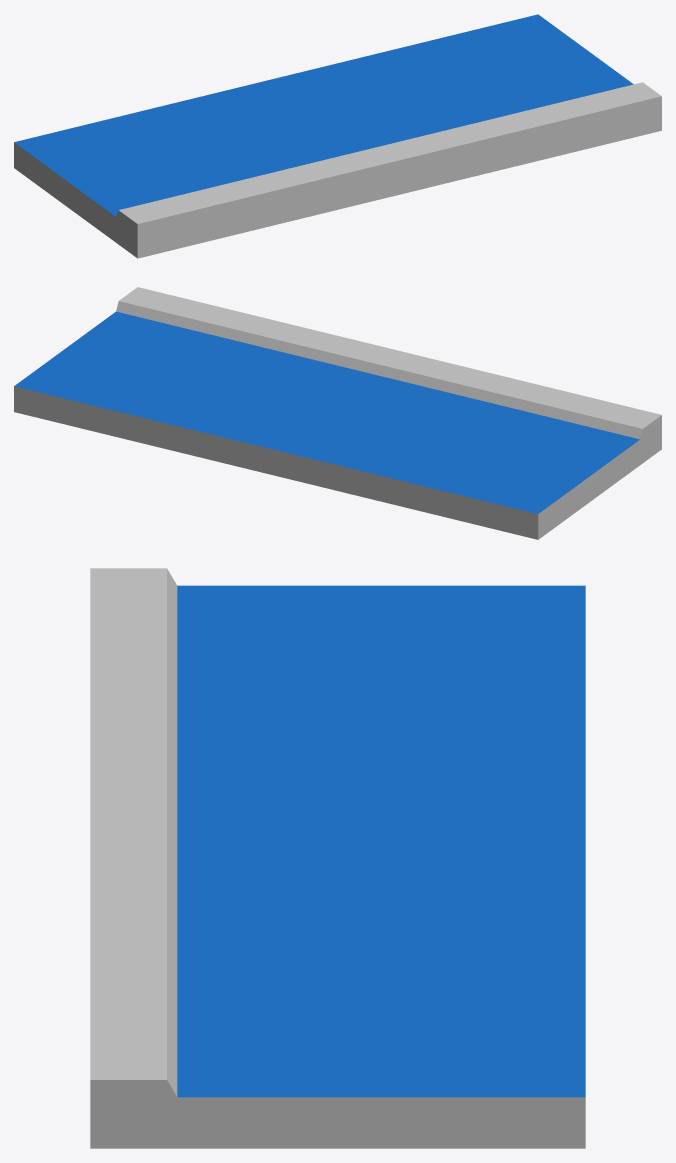
The model's file is SM_sidewalk_3.fbx.
The picture shows the model from 3 angles, top to bottom: view 1: azimuth 30°, elevation 25°; view 2: azimuth 150°, elevation 25°; view 3: azimuth 270°, elevation 25°; orthographic projection. The views are drawn at different scales.
Visible parts, largest first — view 1: Cube_28; view 2: Cube_28; view 3: Cube_28.
Part boxes in pixels (bbox=[...]): Cube_28: bbox=[14, 14, 661, 258]; Cube_28: bbox=[14, 287, 661, 539]; Cube_28: bbox=[90, 568, 585, 1148].
Size of the model in its own units: 250 by 15.7 by 102.
